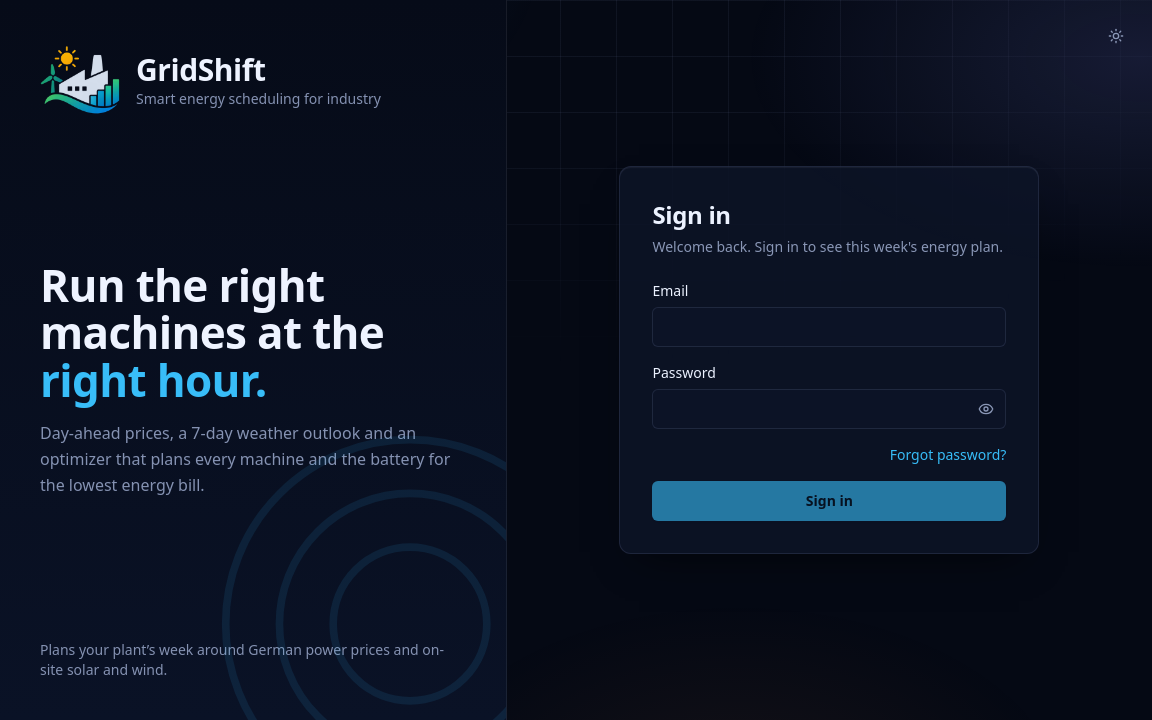
Test case: sign-in and access › signs in and lands on the overview
In the field labelled "Email": (829, 327) [652, 307, 1006, 347], type "planner@example.com"
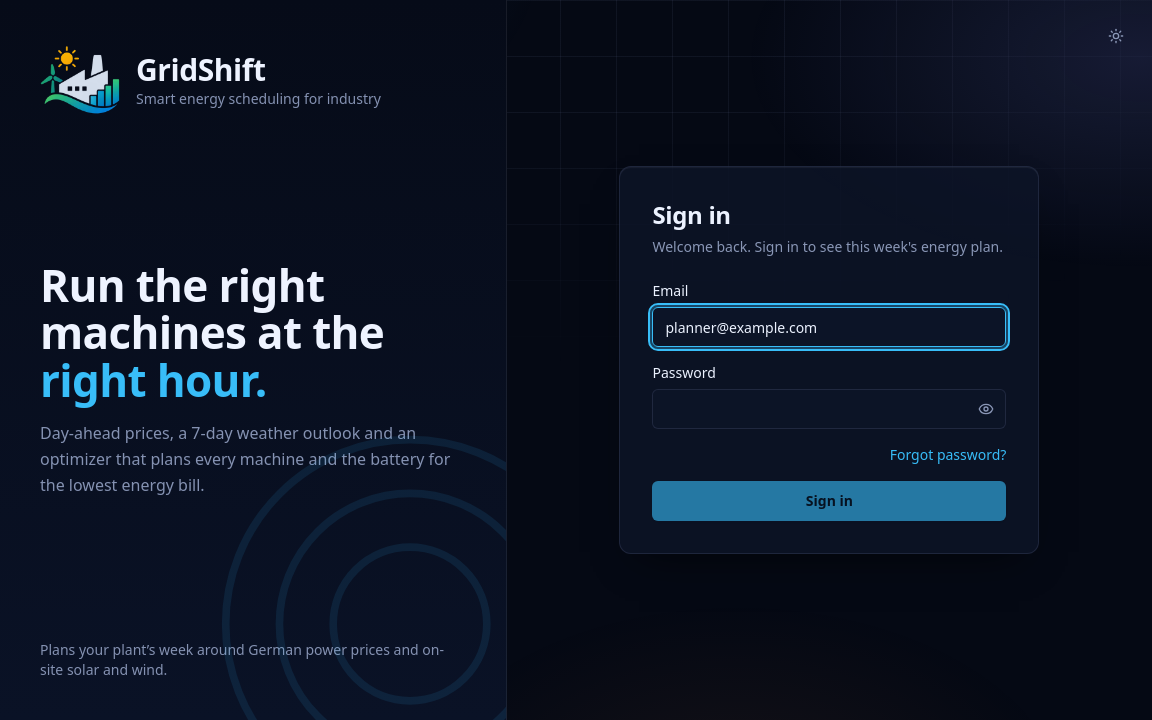
In the password field labelled "Password": (829, 409) [652, 389, 1006, 429], type "secret-pass-1"
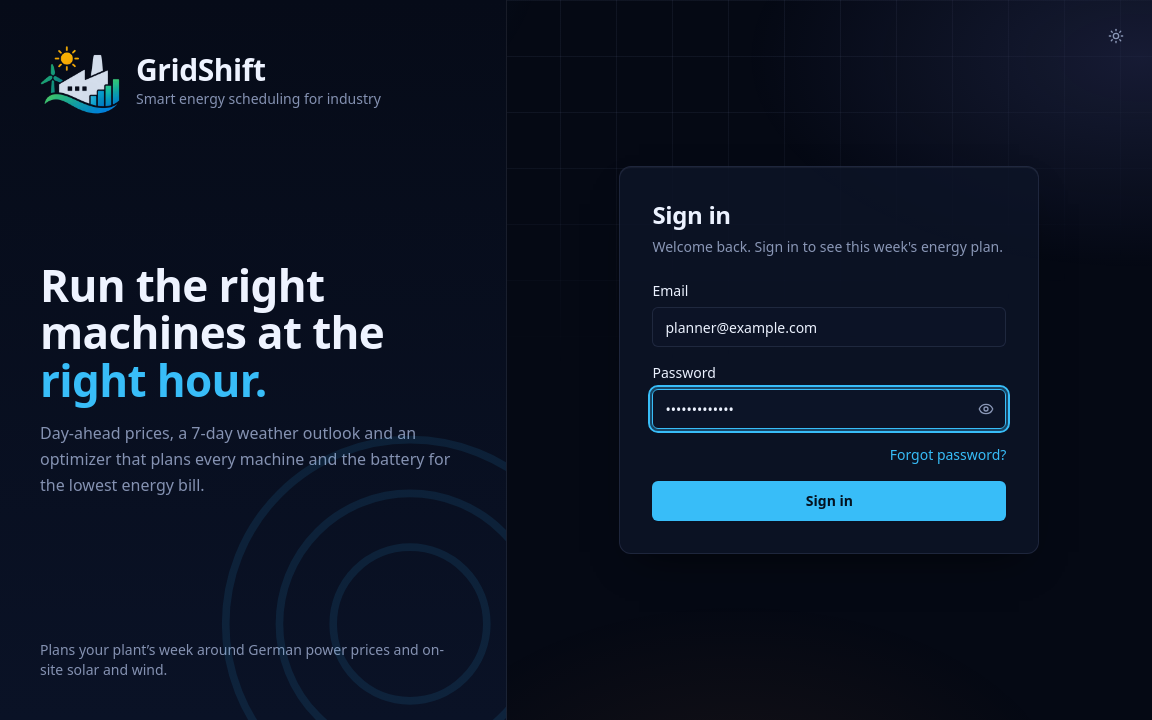
Click the button "Sign in": (829, 501) [652, 481, 1006, 521]
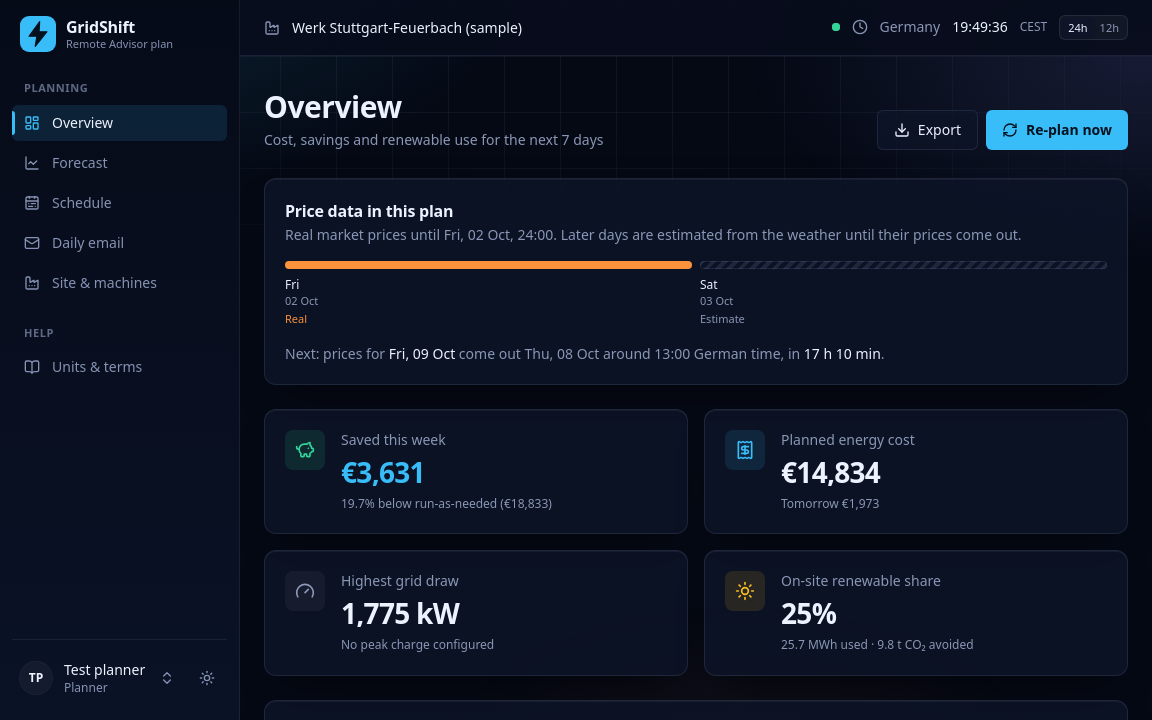
Now the text "Saved this week" is shown, box [341, 430, 446, 448]
